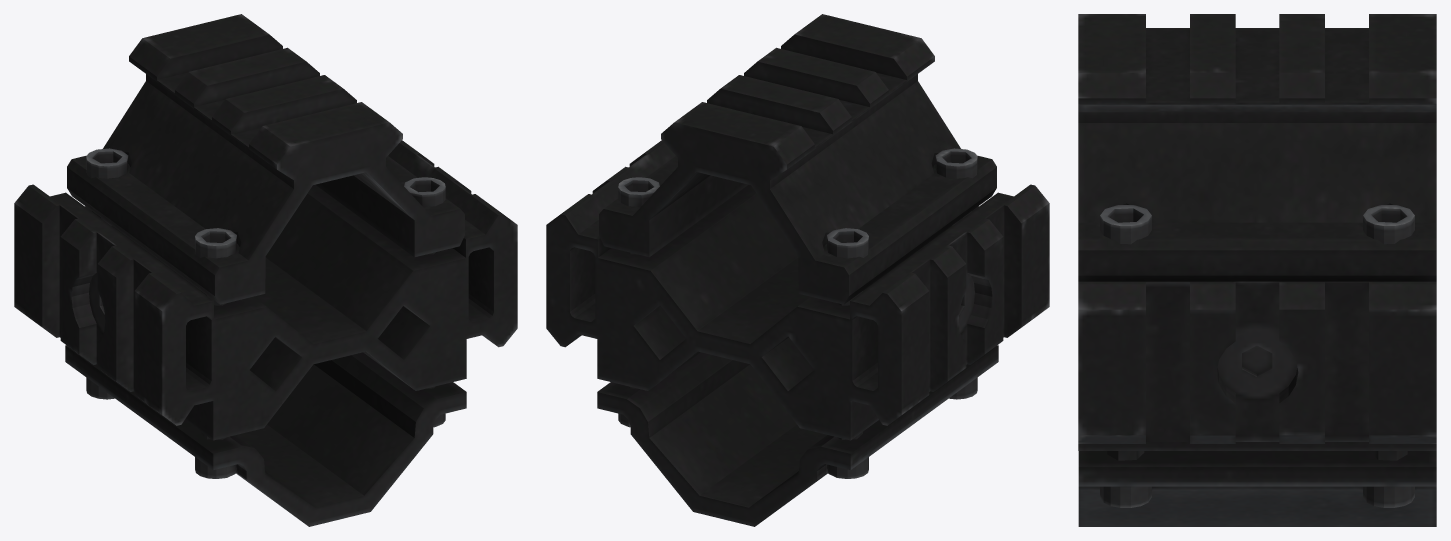
3 views of the same model, side by side, from view 1: azimuth 30°, elevation 25°; view 2: azimuth 150°, elevation 25°; view 3: azimuth 270°, elevation 25° (orthographic). The views are drawn at different scales.
Parts seen in each view (by area): view 1: TW_6710cea62bb09af72f0e6bf8_PZ_Import; view 2: TW_6710cea62bb09af72f0e6bf8_PZ_Import; view 3: TW_6710cea62bb09af72f0e6bf8_PZ_Import.
Part boxes in pixels (<box>): TW_6710cea62bb09af72f0e6bf8_PZ_Import: <box>14,14,517,526</box>; TW_6710cea62bb09af72f0e6bf8_PZ_Import: <box>546,14,1049,526</box>; TW_6710cea62bb09af72f0e6bf8_PZ_Import: <box>1078,14,1436,526</box>.
Bounding box in the file's own units: 0.0341 × 0.0247 × 0.0354.
1 material, 1 textured.
